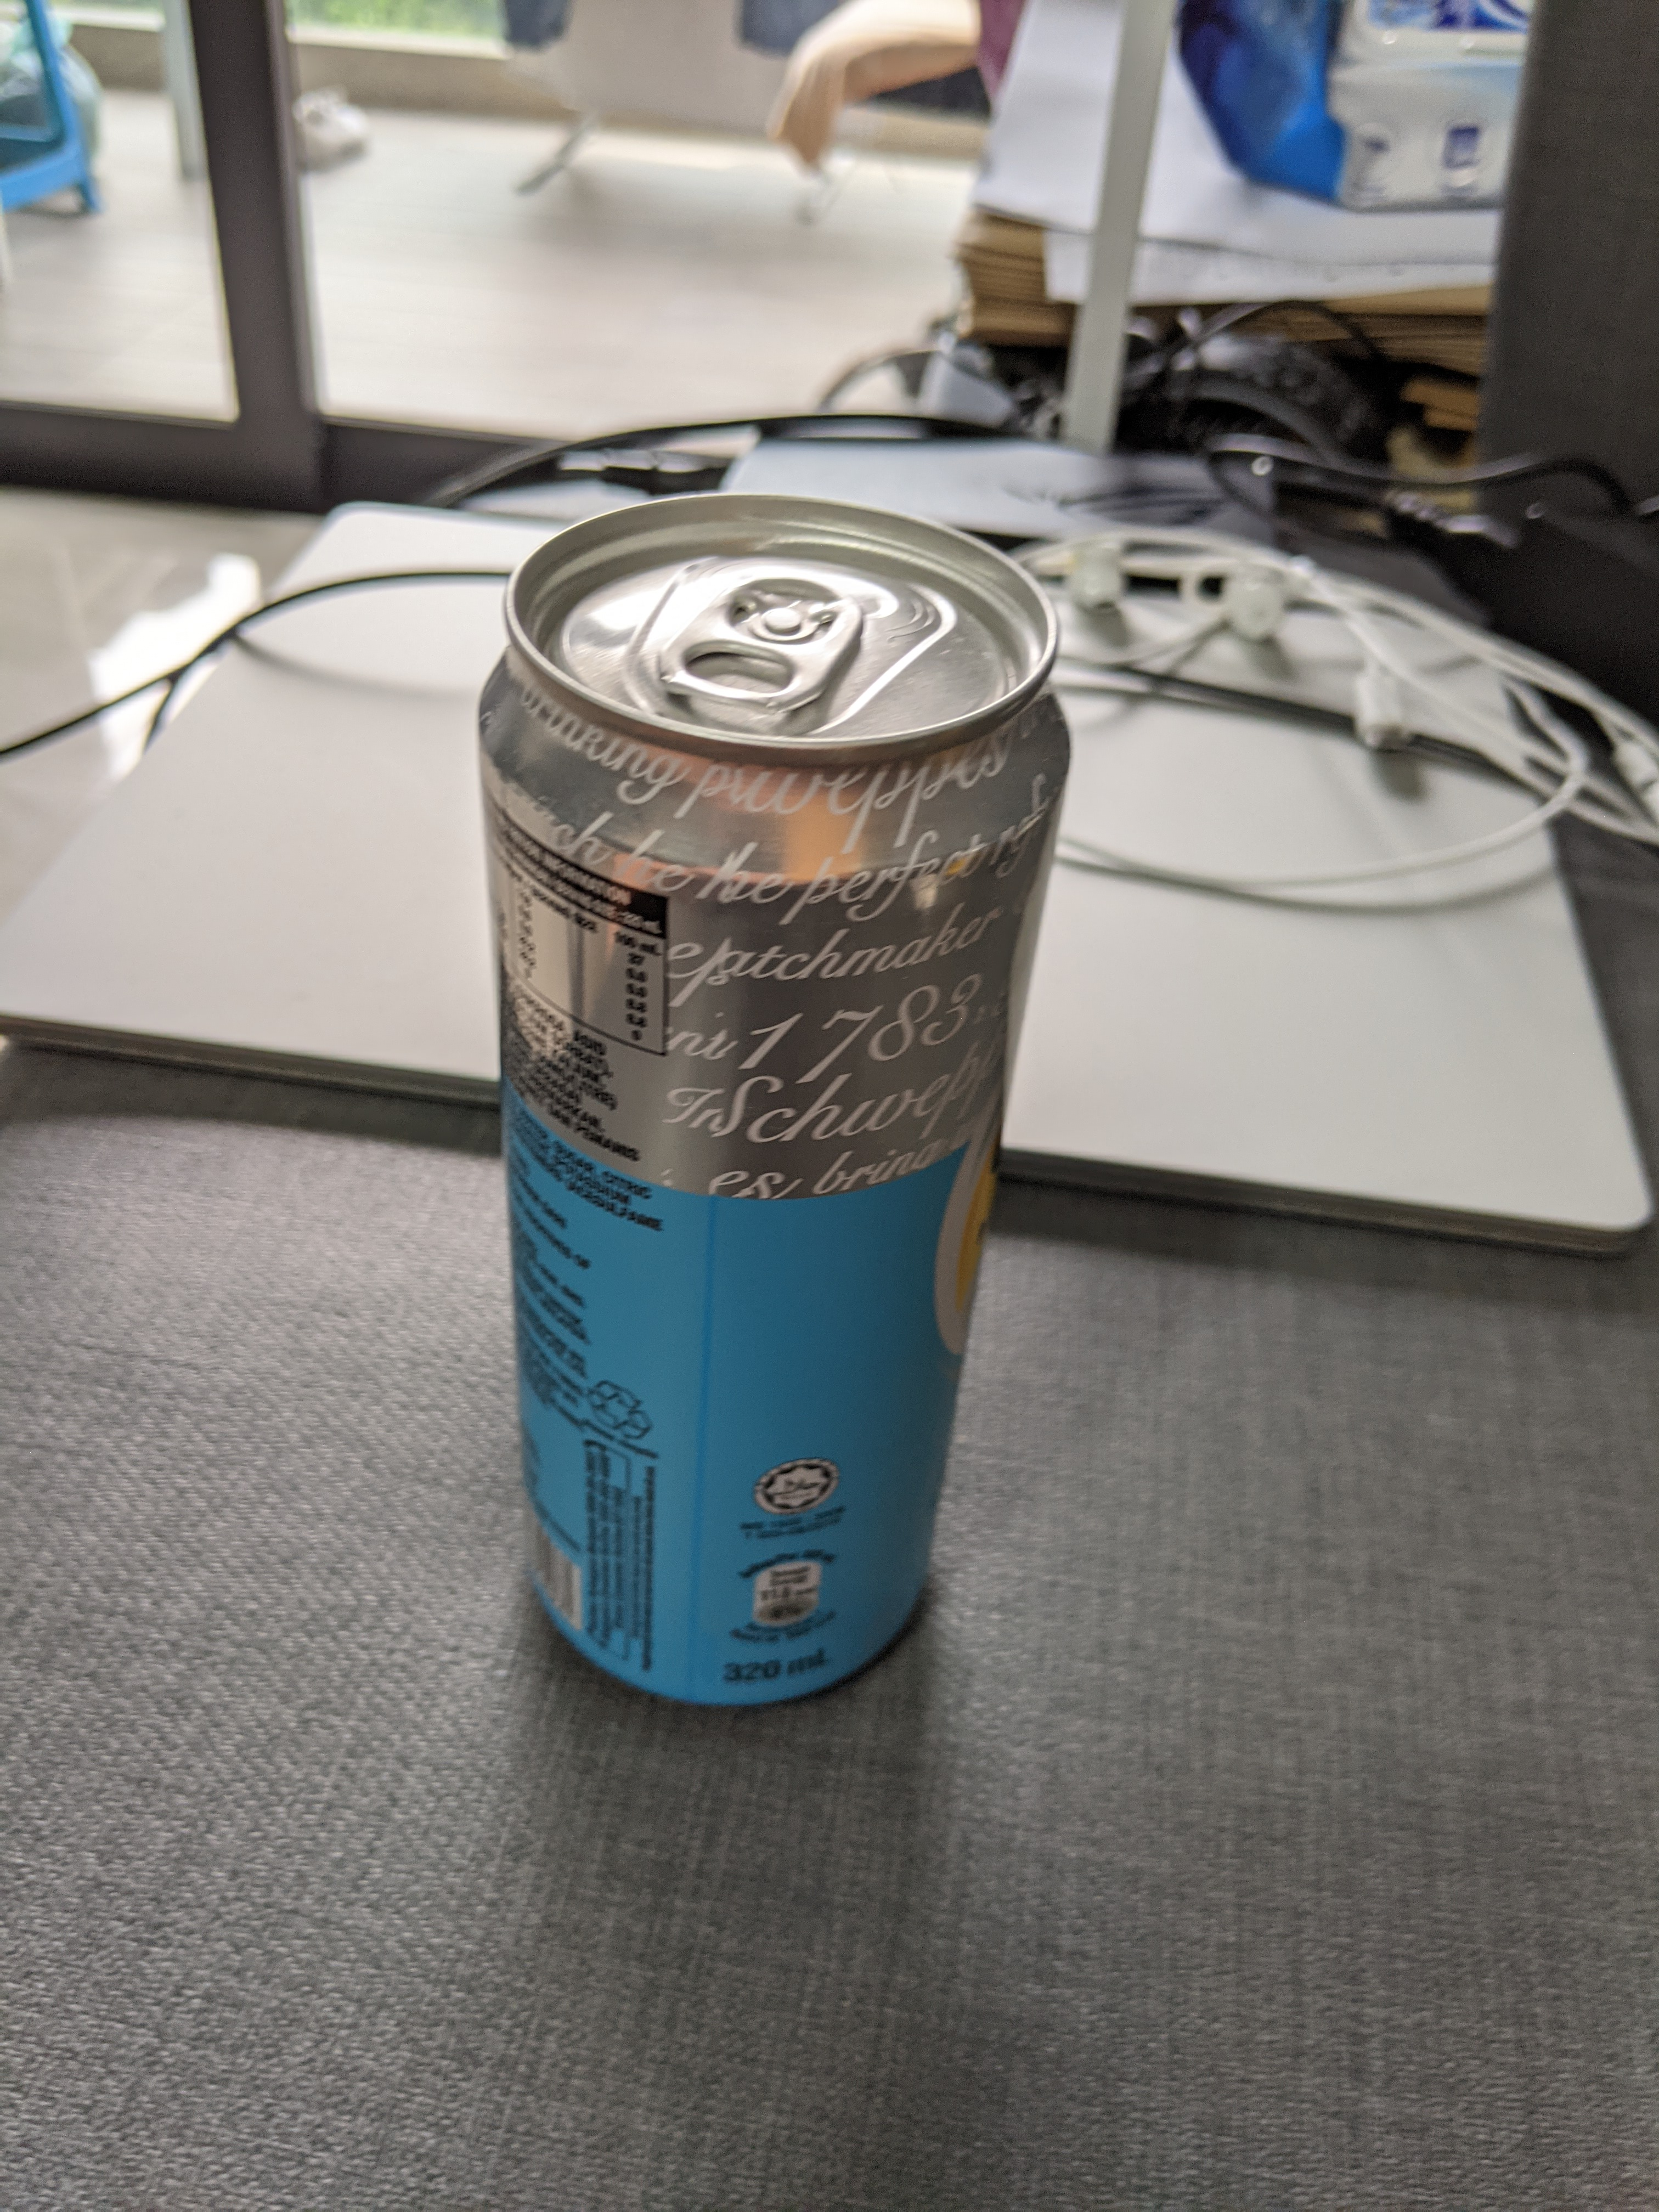schweppes drink can bitter lemon: (441, 460, 1101, 1763)
